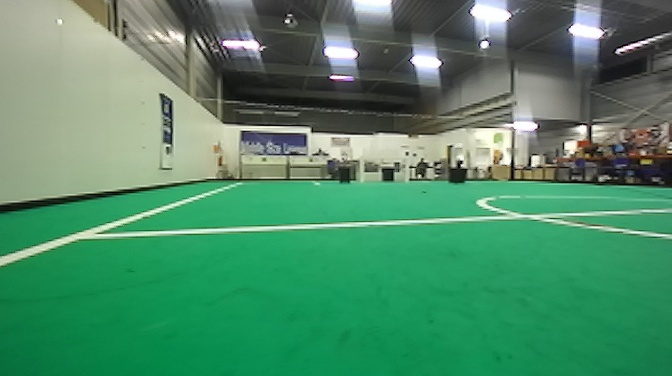goalpost: (397, 154, 411, 183), (354, 158, 363, 181)
